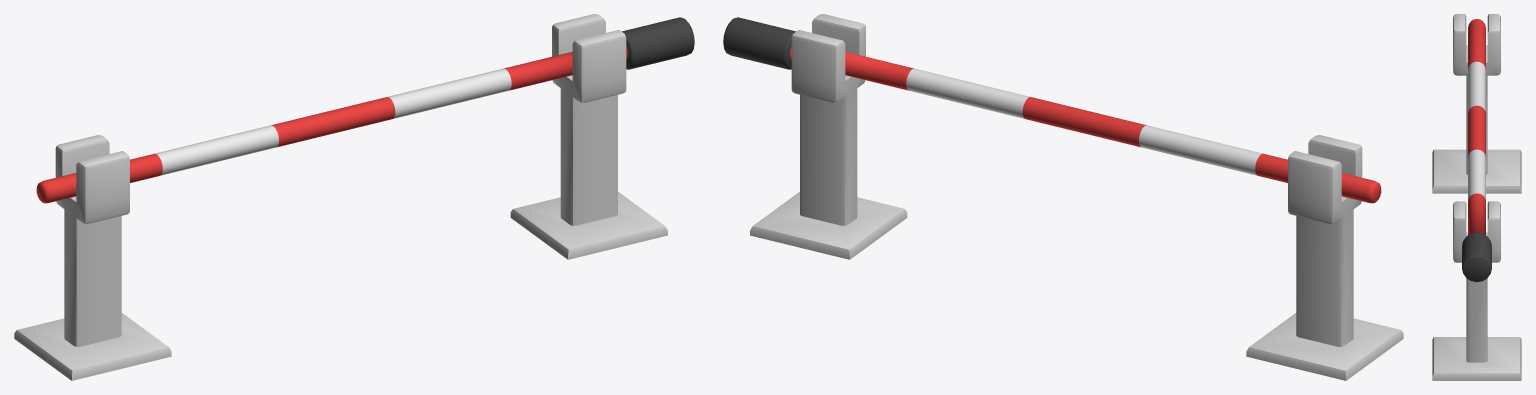
Rendered from exitdoor.fbx.
3 renders of one model, left to right at view 1: azimuth 30°, elevation 25°; view 2: azimuth 150°, elevation 25°; view 3: azimuth 270°, elevation 25°, orthographic. The views are drawn at different scales.
Visible parts, largest first — view 1: Plane.001, Plane.002, Cylinder.001; view 2: Plane.001, Plane.002, Cylinder.001; view 3: Plane.001, Plane.002, Cylinder.001.
Boxes of the visible parts, x1,y1,x2,y2 form: Plane.001: (510, 14, 667, 259); Plane.002: (14, 135, 171, 380); Cylinder.001: (36, 17, 694, 203); Plane.001: (750, 14, 907, 259); Plane.002: (1246, 135, 1403, 380); Cylinder.001: (723, 17, 1381, 203); Plane.001: (1432, 201, 1521, 380); Plane.002: (1432, 14, 1521, 193); Cylinder.001: (1462, 19, 1491, 282).
Size of the model in its own units: 291 by 85.52 by 45.02.
